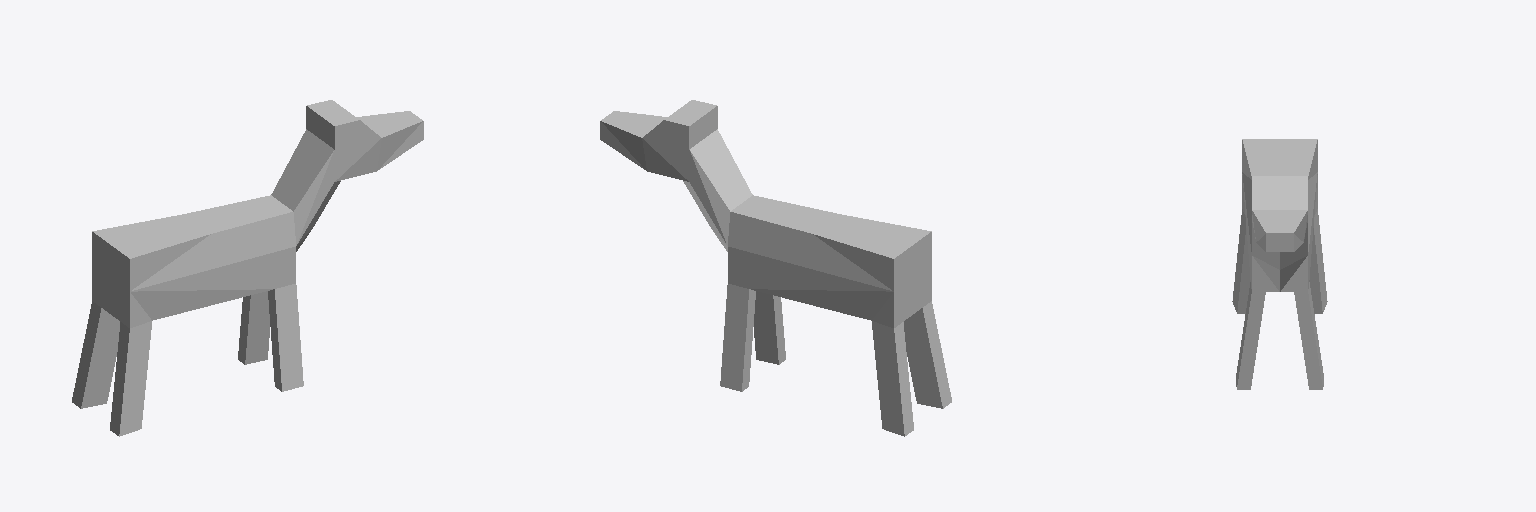
Rendered from deer.obj.
3 renders of one model, left to right at view 1: azimuth 30°, elevation 25°; view 2: azimuth 150°, elevation 25°; view 3: azimuth 270°, elevation 25°, orthographic.
Visible parts, largest first — view 1: Cube; view 2: Cube; view 3: Cube.
Boxes of the visible parts, <box> form: Cube: <box>72,100,423,436</box>; Cube: <box>600,100,951,436</box>; Cube: <box>1232,139,1327,389</box>.
Bounding box in the file's own units: 13.17 × 9.73 × 3.38.